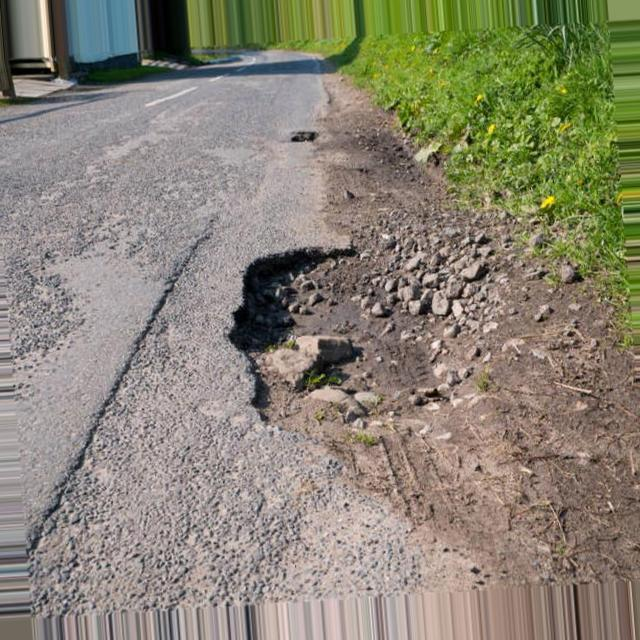Pinggir: (236, 250, 461, 506)
